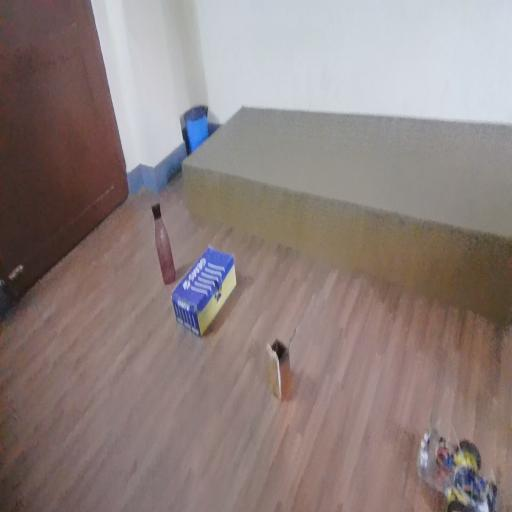Bottle: (153, 198, 188, 290)
car: (422, 407, 490, 510)
